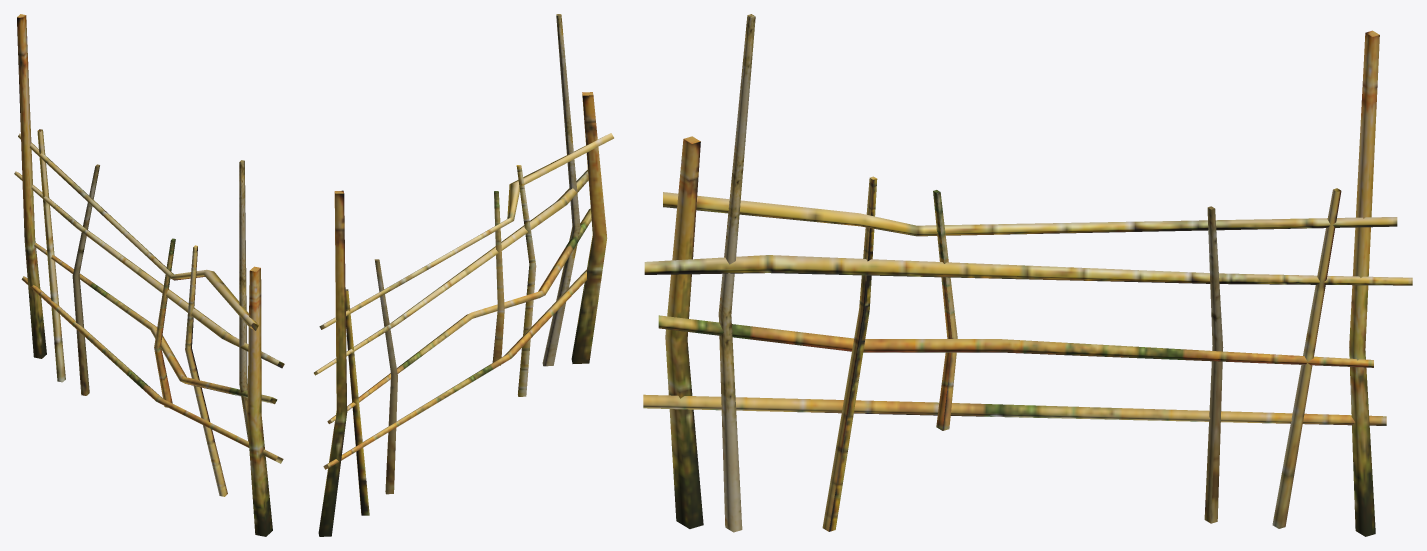
Rendered from bambooFence03.fbx.
3 views of the same model, side by side, from view 1: azimuth 30°, elevation 25°; view 2: azimuth 150°, elevation 25°; view 3: azimuth 270°, elevation 25° (orthographic). The views are drawn at different scales.
Parts seen in each view (by area): view 1: fence3; view 2: fence3; view 3: fence3.
Boxes of the visible parts, bbox=[...] form: fence3: bbox=[14, 14, 284, 536]; fence3: bbox=[314, 14, 613, 536]; fence3: bbox=[643, 14, 1412, 536].
Size of the model in its own units: 0.2666 by 1.94 by 2.66.
